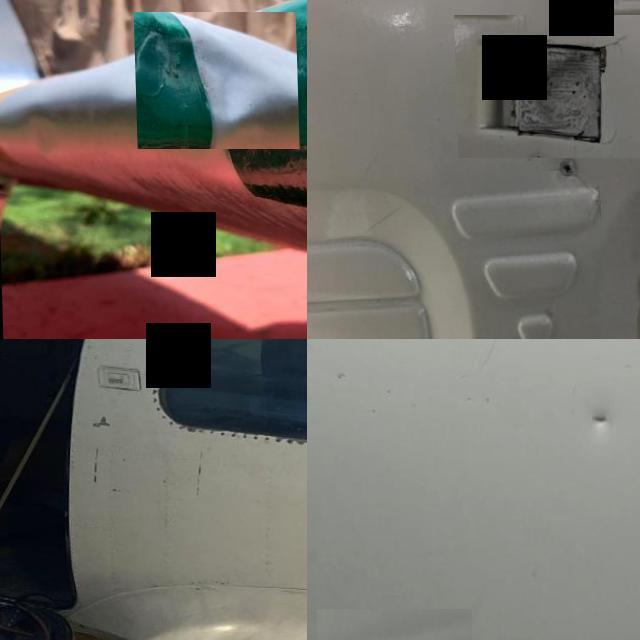Crack: (452, 15, 640, 157)
Dent: (132, 12, 298, 149), (321, 610, 469, 640), (590, 410, 608, 430)
